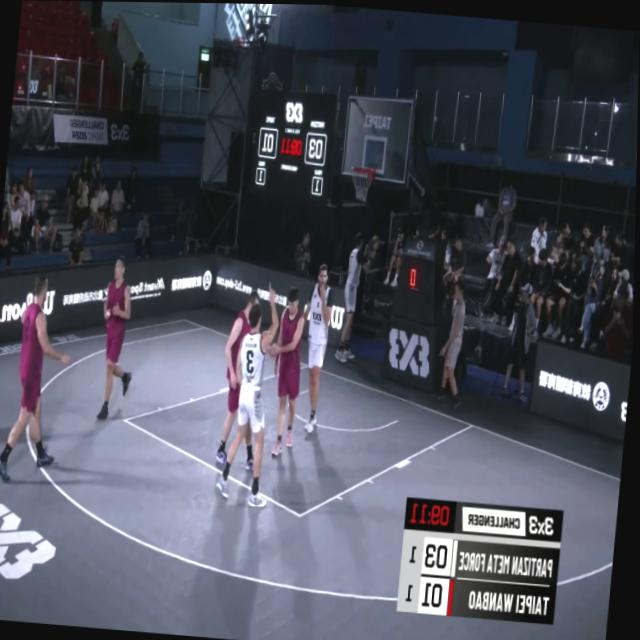hoop: (347, 161, 375, 206)
player: (0, 266, 82, 490), (223, 284, 287, 507), (216, 286, 274, 474), (267, 284, 312, 461), (97, 258, 145, 422), (299, 264, 337, 433), (339, 231, 372, 363)
